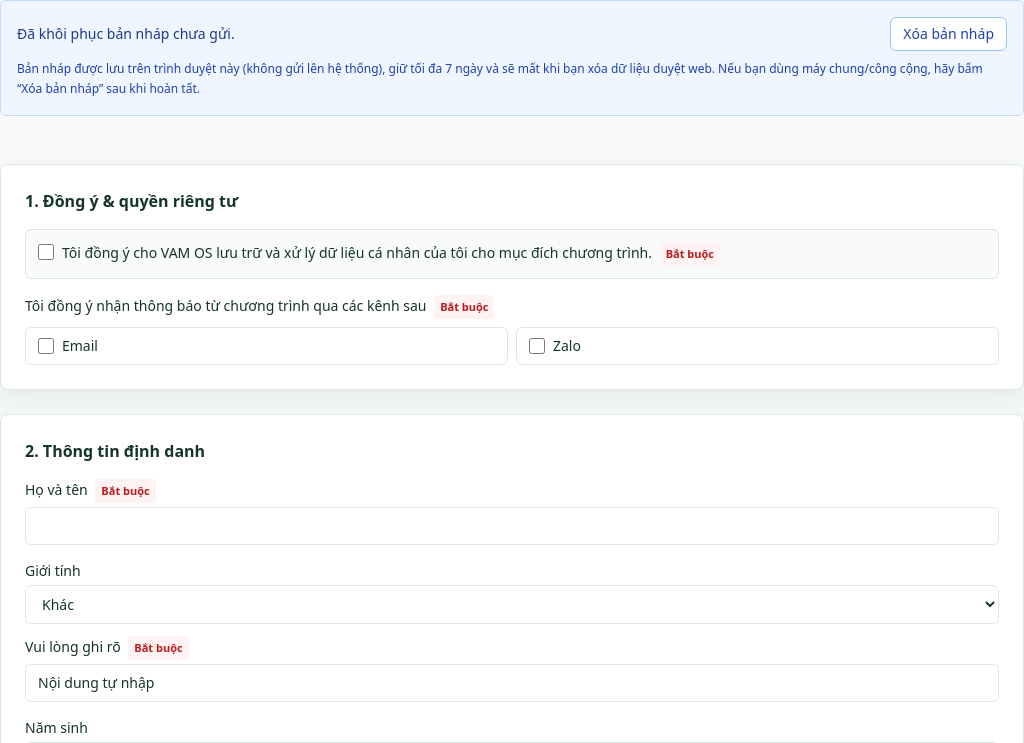
Test: "Khác / Other" companion fields › switching away from Other removes the companion and its stored value
This screenshot has width=1024, height=743.
Expected: the field named "gender_other" is shown, [25, 664, 999, 702]
Step 1. Select "Nữ" in the dropdown labelled "Giới tính" → (512, 604), box [25, 585, 999, 624]
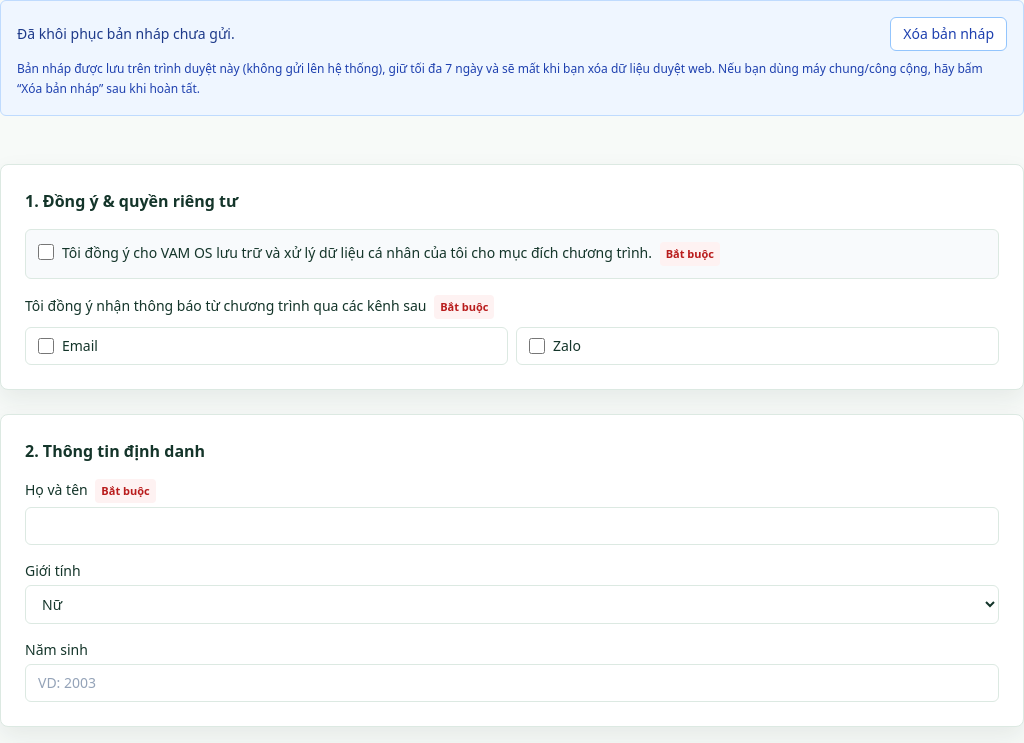
Expected: the label named "gender_other" is gone
